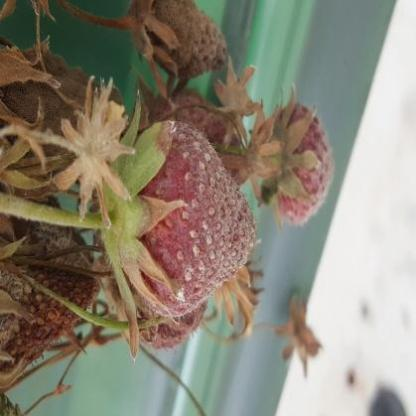Strawberry_Powdery_Mildew_Fruit: (107, 121, 260, 317), (0, 182, 101, 392), (0, 50, 129, 182), (130, 0, 228, 80)
